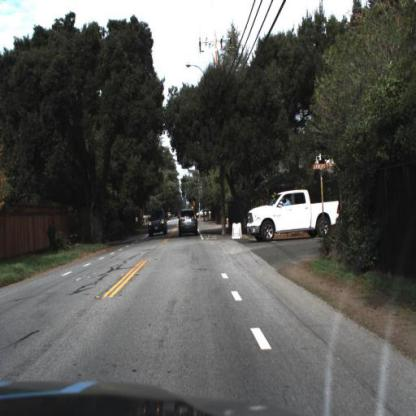car: (243, 179, 346, 252), (173, 203, 204, 246), (145, 203, 172, 244)
